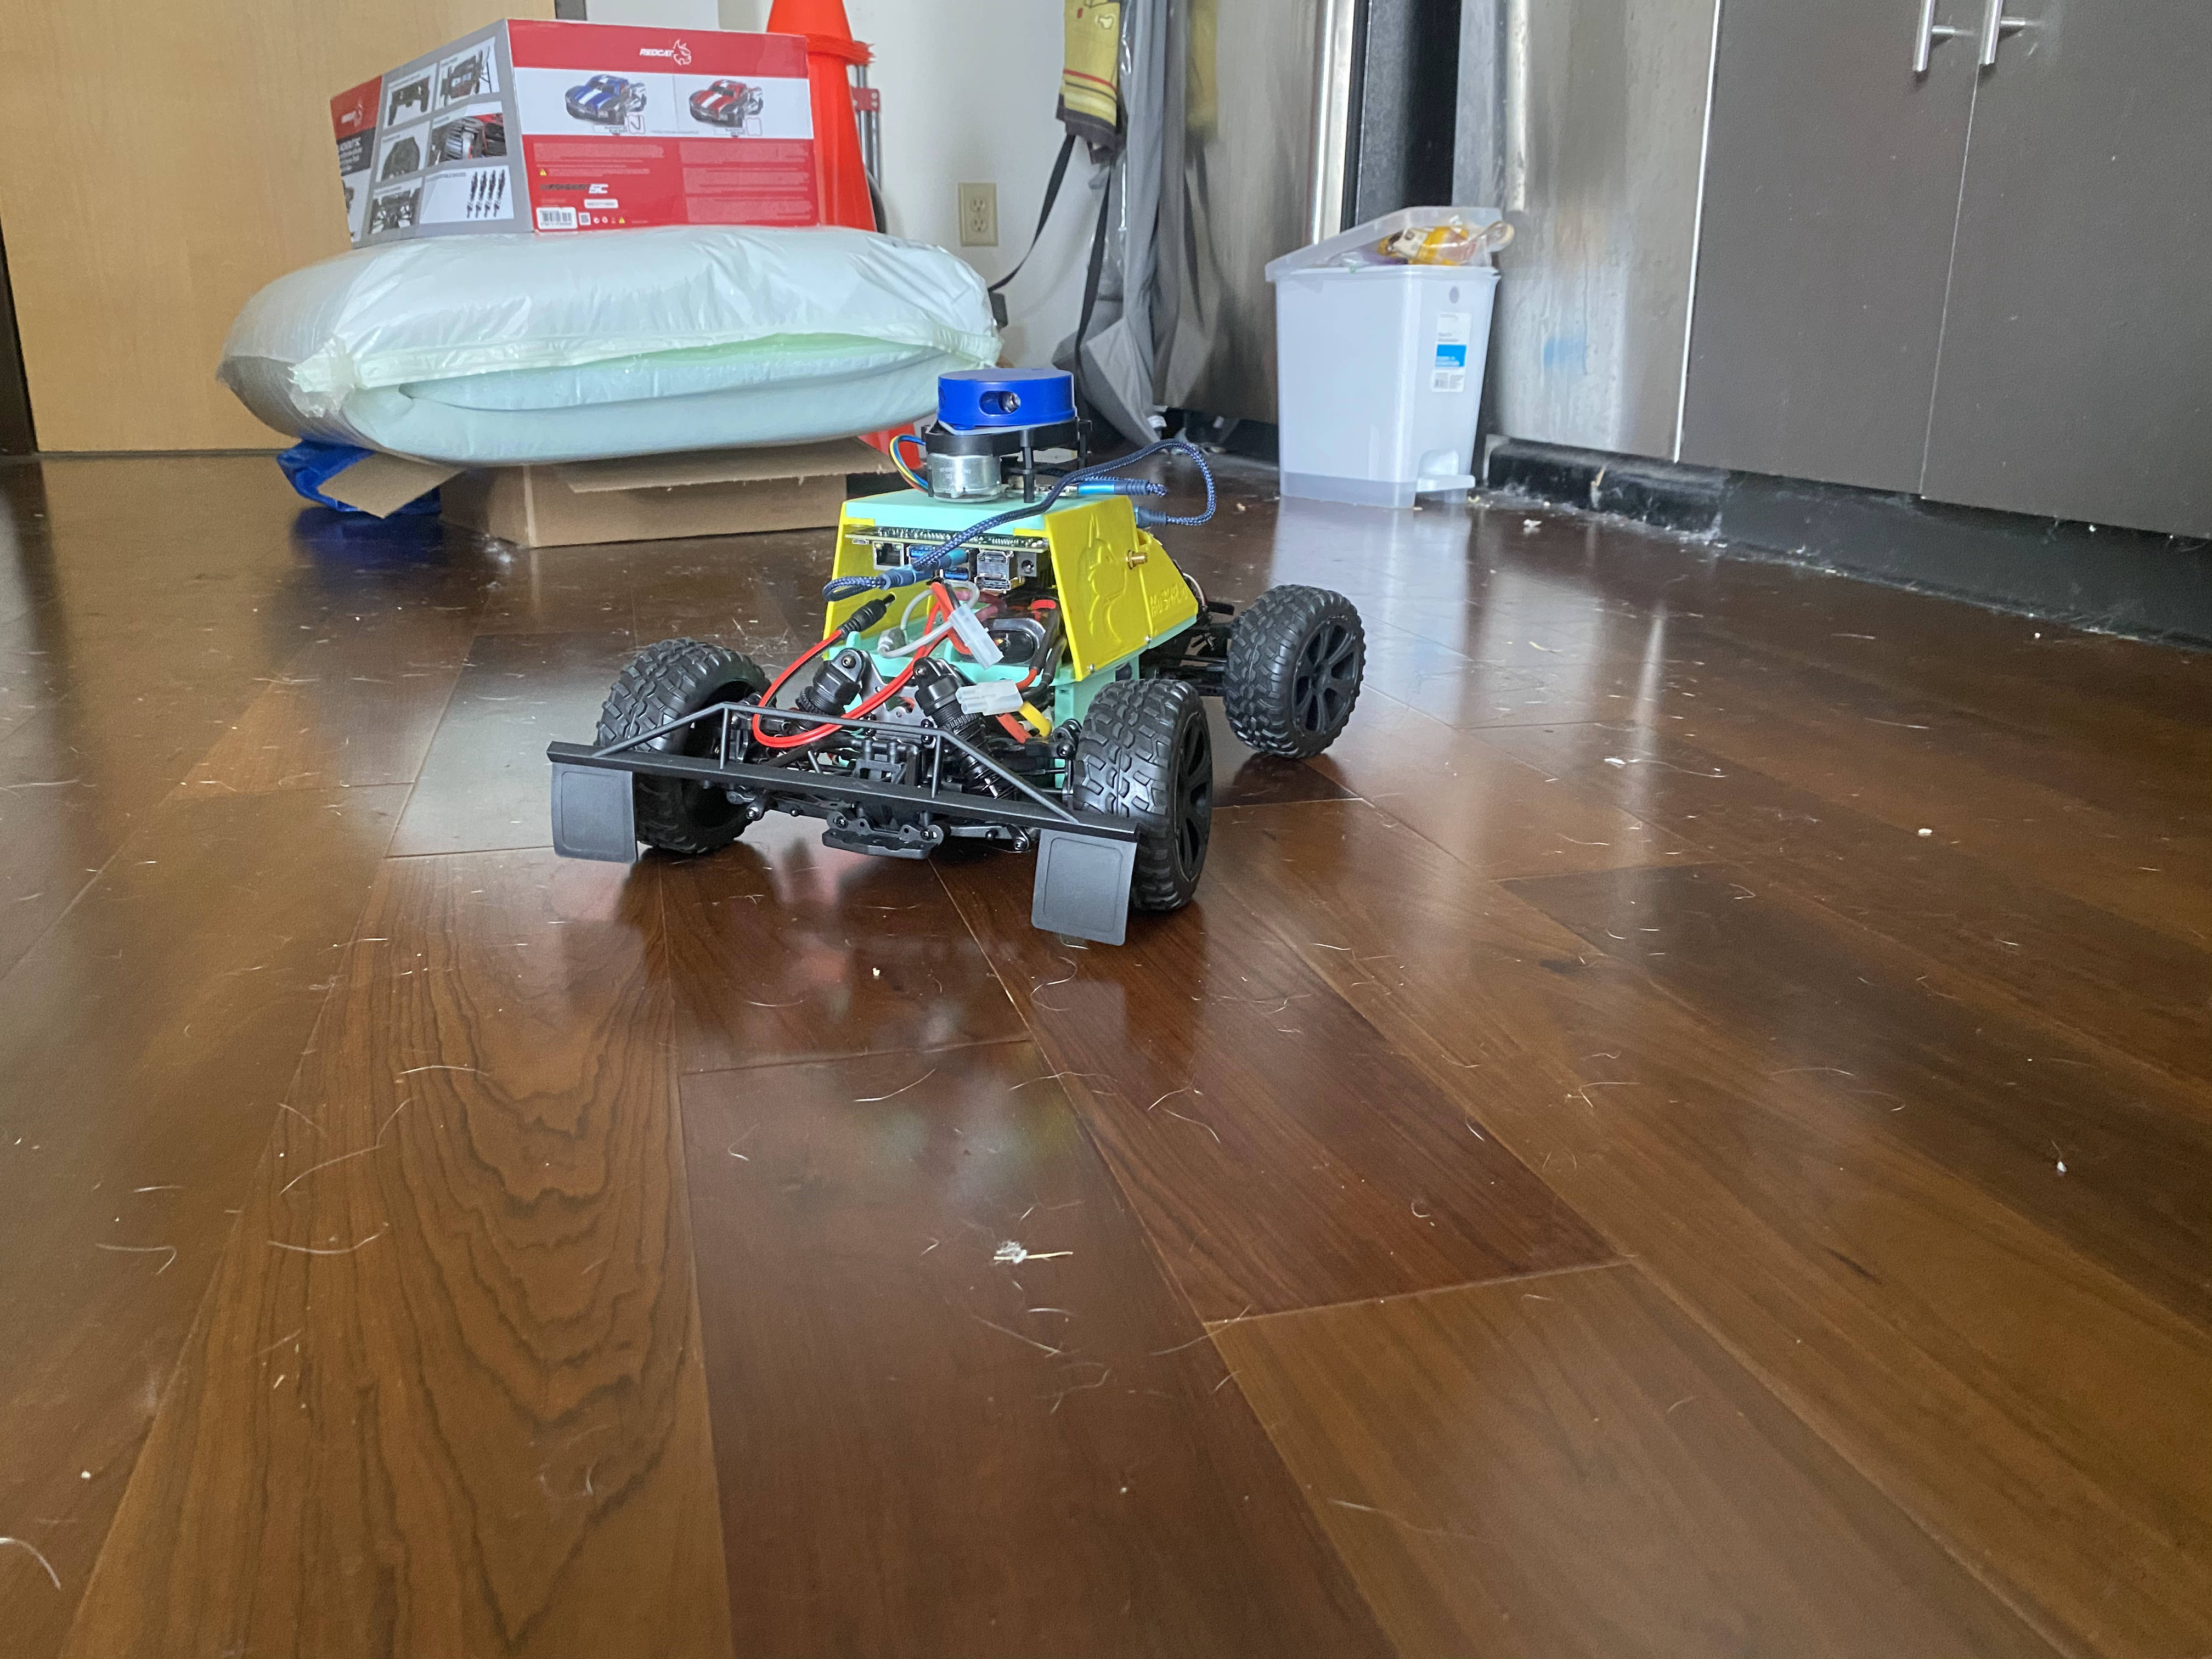mushr_car: (552, 371, 1371, 941)
